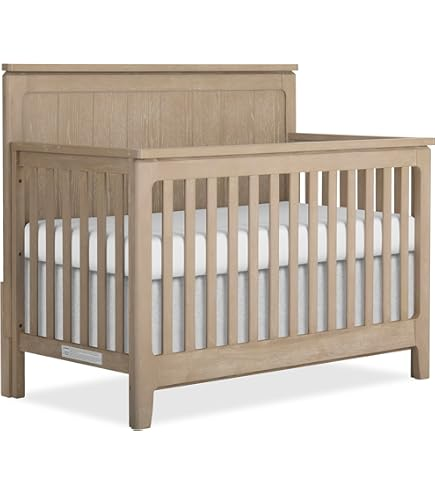crib: (1, 65, 433, 428)
